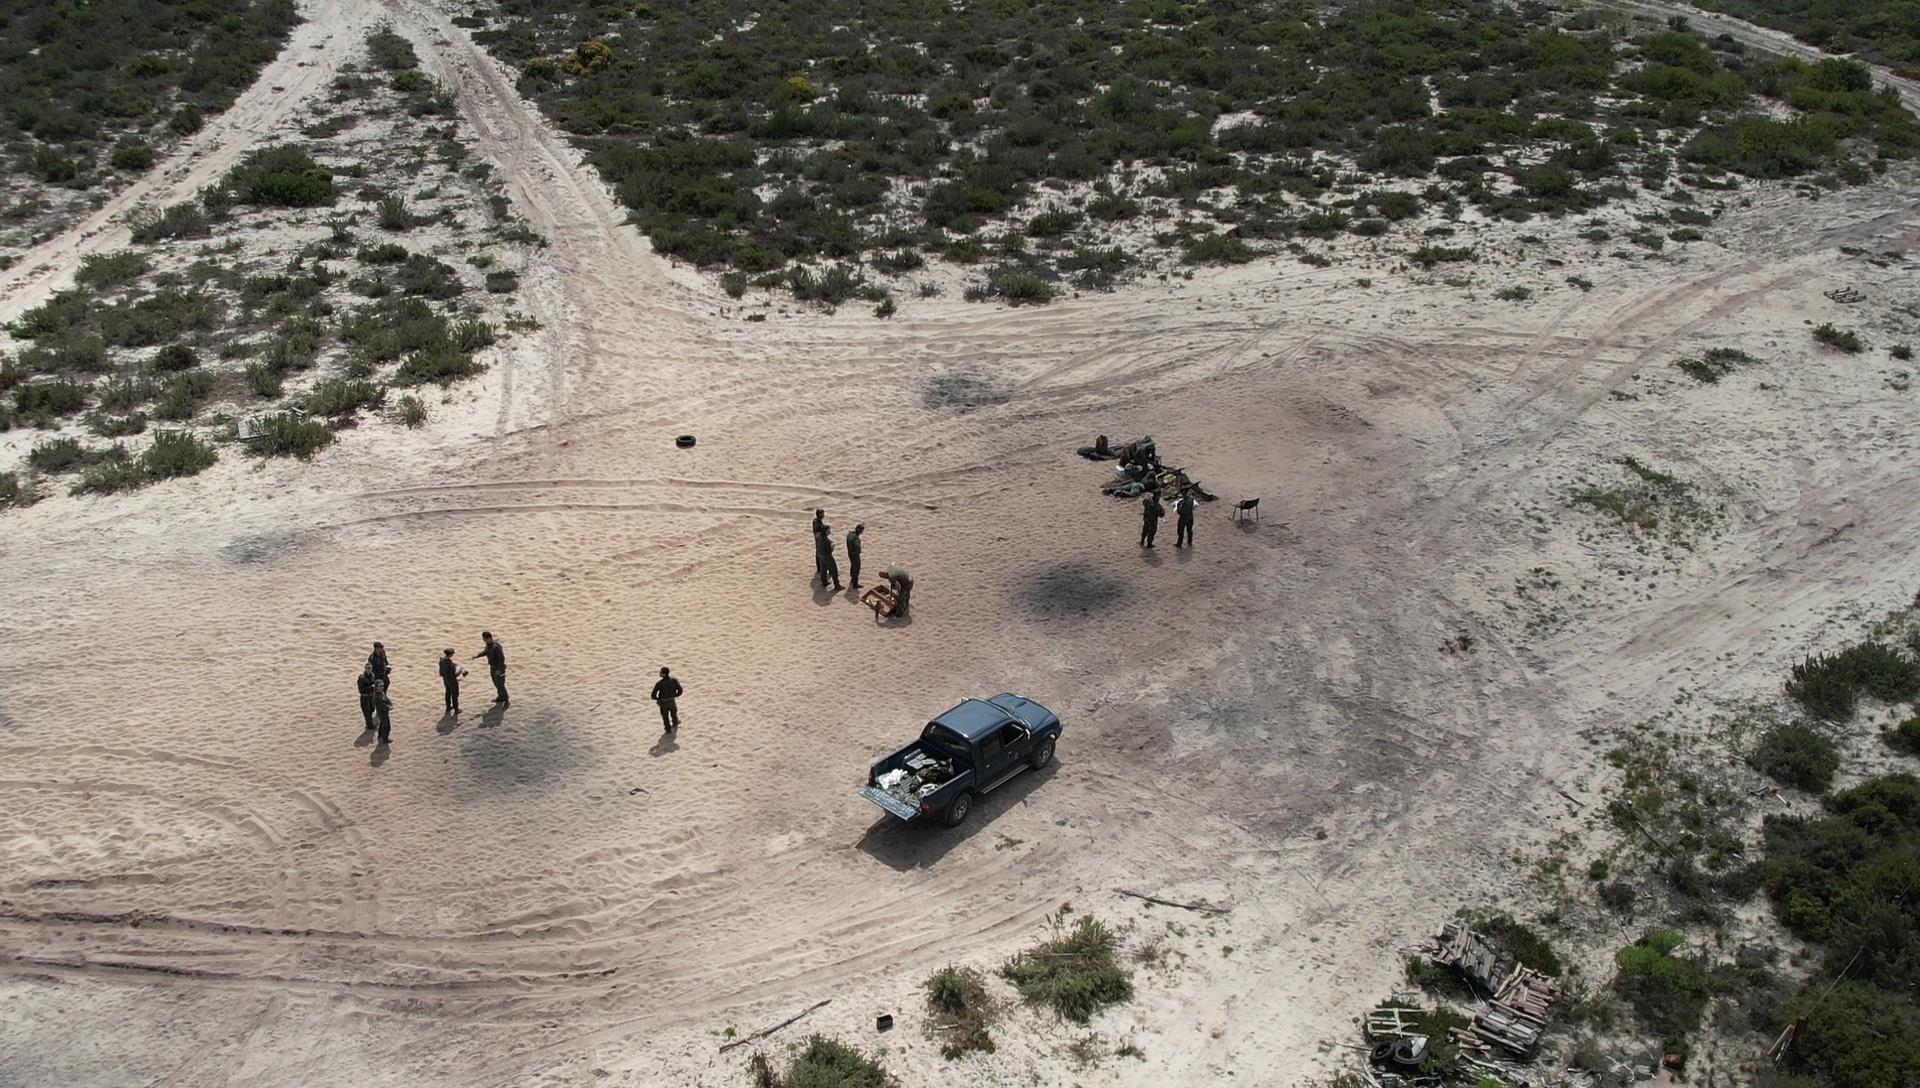Soldier: (473, 616, 524, 716), (644, 661, 696, 742), (1106, 460, 1192, 502), (434, 636, 471, 731), (873, 554, 916, 634), (1171, 489, 1212, 564), (814, 520, 847, 607), (1135, 501, 1168, 578), (353, 655, 385, 735), (847, 516, 876, 599), (372, 674, 404, 746), (1124, 429, 1170, 472), (367, 632, 397, 675)
